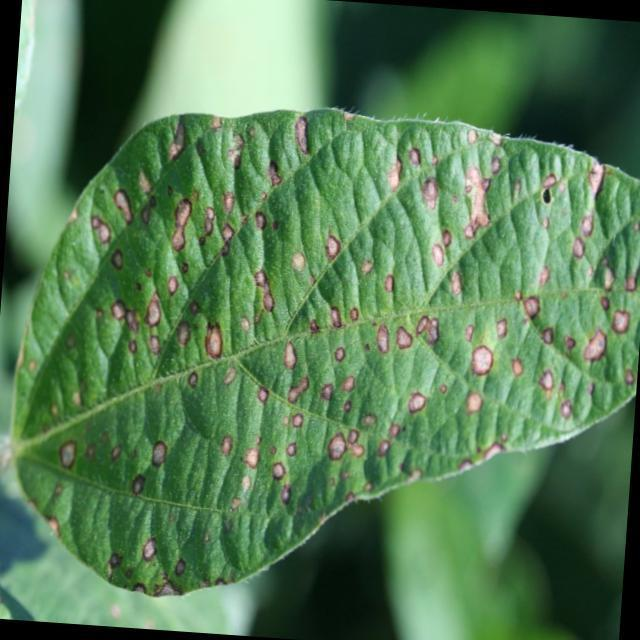Septoria: (37, 107, 640, 606)
